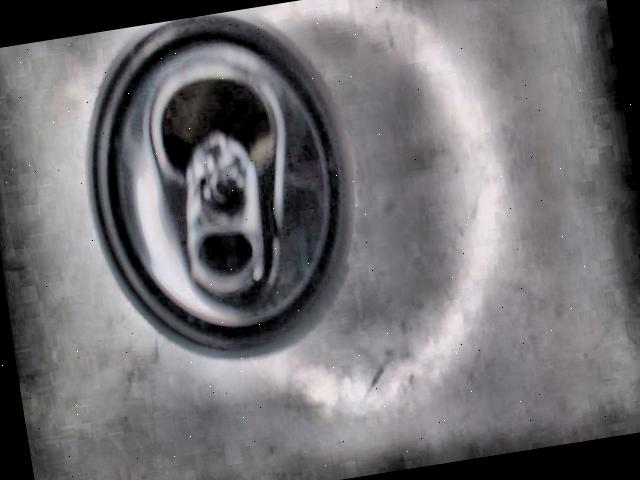Bottles: (88, 14, 348, 354)
